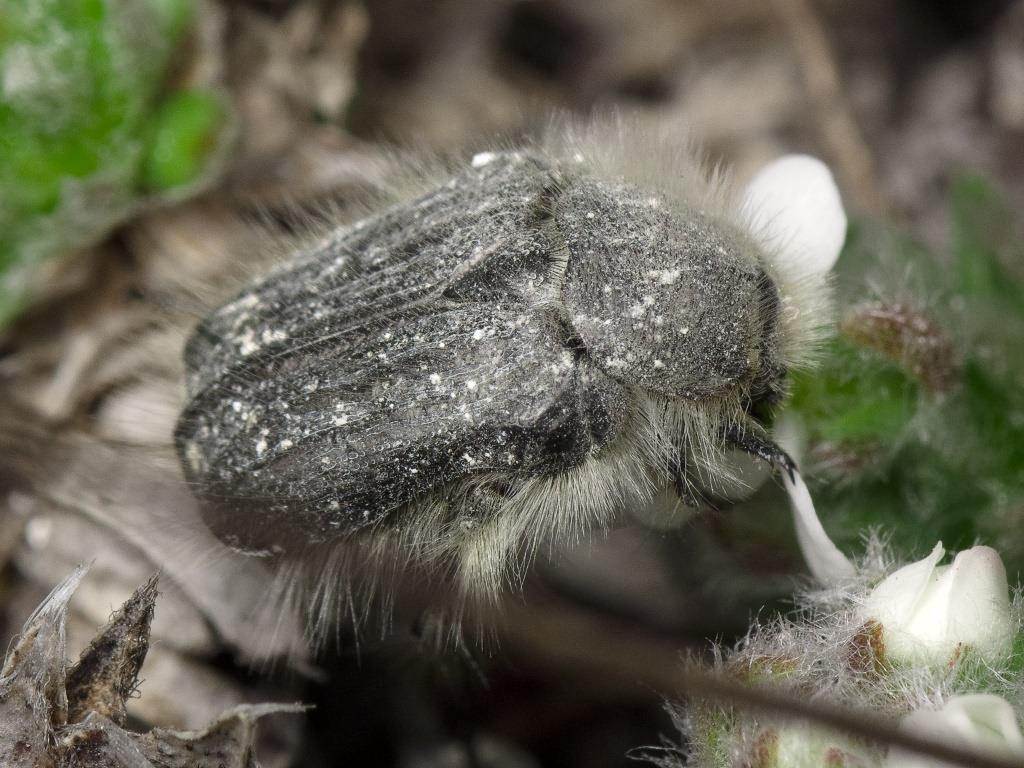Tropinota_hirta: (159, 92, 870, 699)
